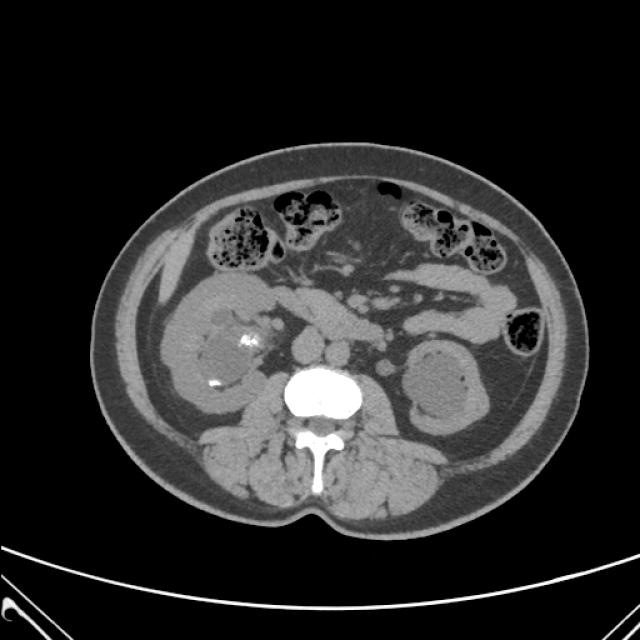kidney: (154, 270, 291, 422), (376, 336, 496, 440)
stone: (232, 331, 267, 351), (207, 374, 226, 390)
